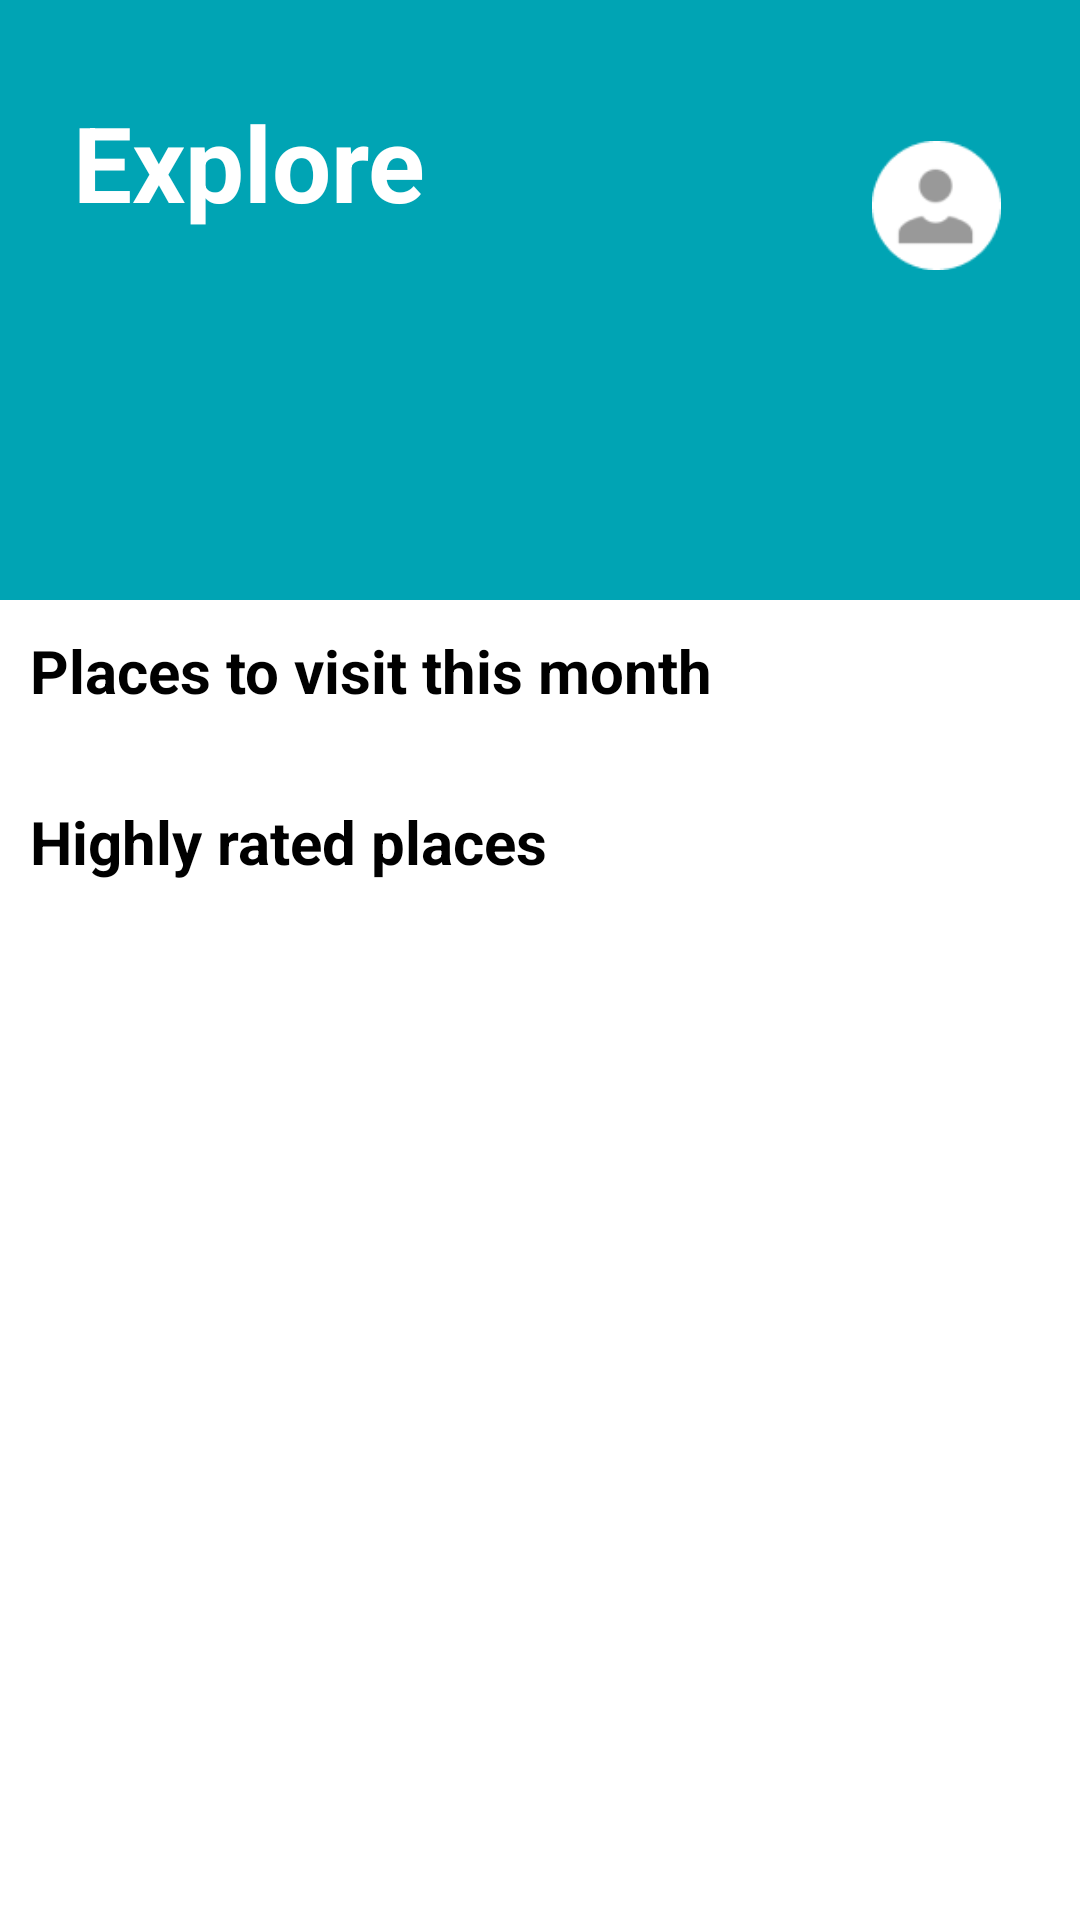

Screen size 1080×1920. Icon name, then its center in pixels as (x,y):
user: (936,205)
